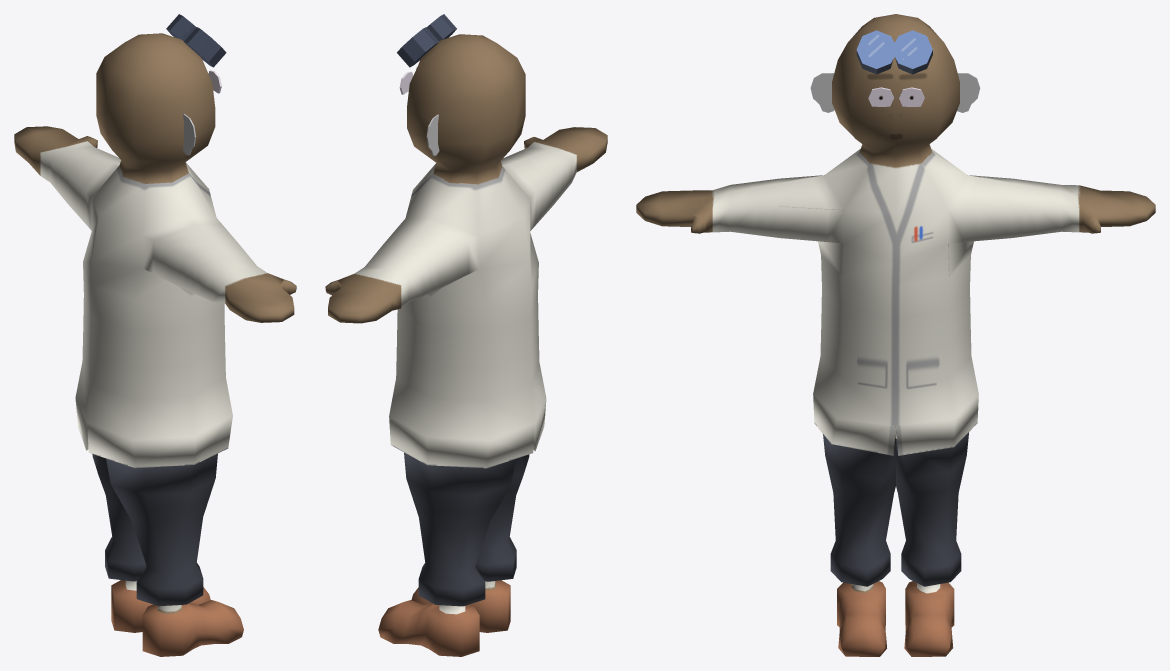
File: Scientist.fbx
The picture shows the model from 3 angles, left to right: view 1: azimuth 30°, elevation 25°; view 2: azimuth 150°, elevation 25°; view 3: azimuth 270°, elevation 25°; orthographic projection.
Visible parts, largest first — view 1: Human, Goggles; view 2: Human, Goggles; view 3: Human, Goggles, Ears, Eyeballs.
Part boxes in pixels (box(x1,y1,x2,y2)): Human: box(14, 33, 296, 656); Goggles: box(166, 14, 226, 67); Human: box(325, 34, 607, 656); Goggles: box(397, 14, 456, 67); Human: box(636, 14, 1155, 656); Goggles: box(856, 30, 932, 74); Ears: box(810, 73, 980, 112); Eyeballs: box(868, 87, 924, 106).
Size of the model in its own units: 45.15 by 196 by 150.
